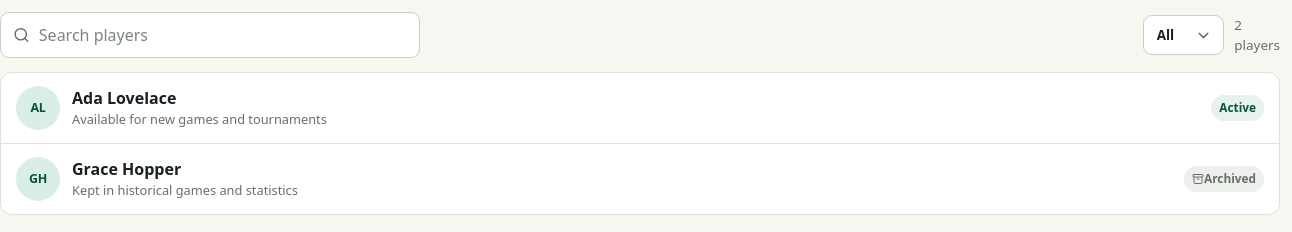
PlayerList › filters names case-insensitively and keeps archived players searchable
The width and height of the screenshot is (1292, 232).
Type "gRaCe" into the search field labelled "Search players" at (223, 35), box [39,23,407,47]
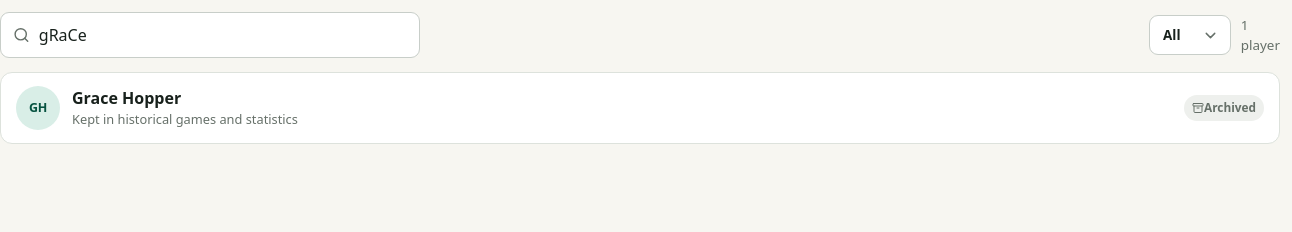
Now the link "Ada Lovelace" is gone
Now the message reads "1 player", box [1241,15,1280,55]
